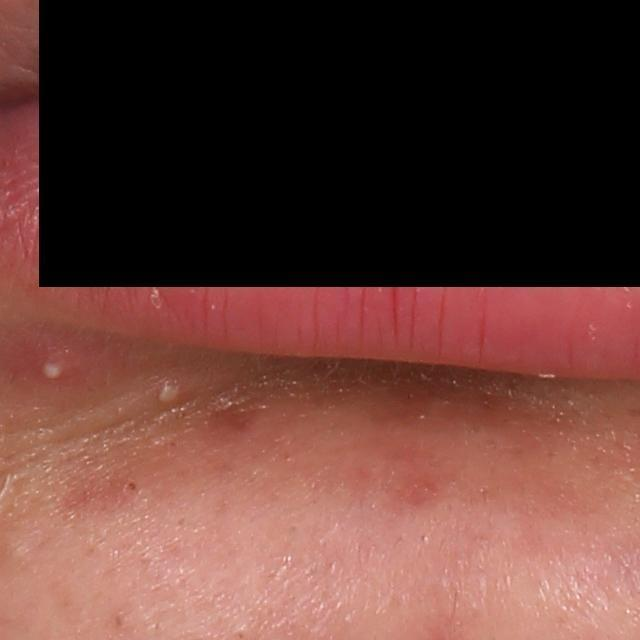comedo: (2, 530, 32, 560), (119, 476, 143, 499)
pustule: (151, 373, 196, 419)
